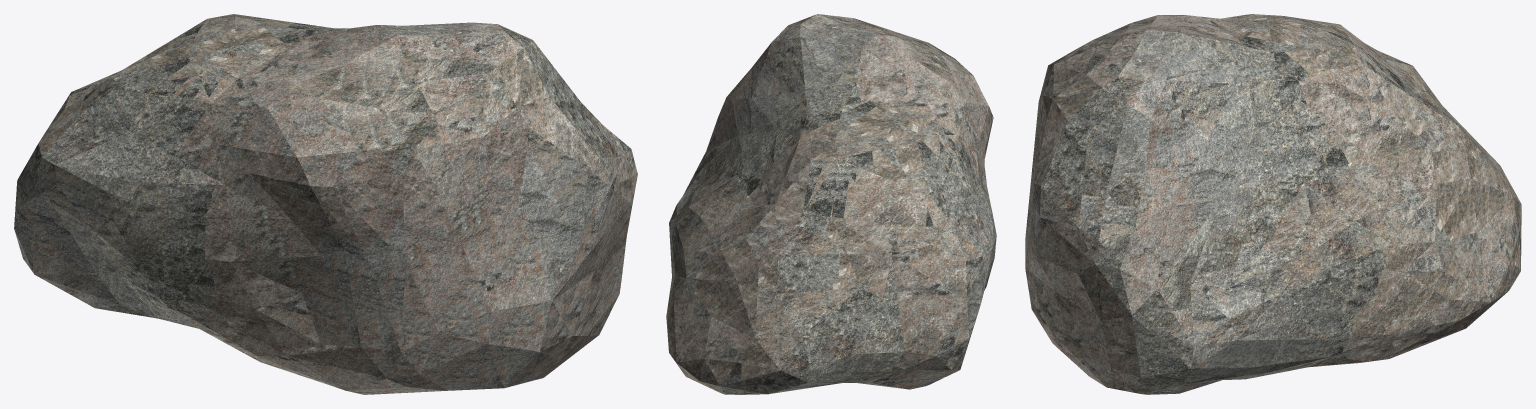
File: stone_2.dae
3 views of the same model, side by side, from view 1: azimuth 30°, elevation 25°; view 2: azimuth 150°, elevation 25°; view 3: azimuth 270°, elevation 25° (orthographic). The views are drawn at different scales.
Visible parts, largest first — view 1: SketchUp; view 2: SketchUp; view 3: SketchUp.
Boxes of the visible parts, left/top/right/bottom form: SketchUp: left=14, top=14, right=637, bottom=394; SketchUp: left=666, top=14, right=996, bottom=394; SketchUp: left=1025, top=14, right=1521, bottom=394.
Size of the model in its own units: 85.29 by 87.75 by 58.94.
2 materials, 2 textured.
